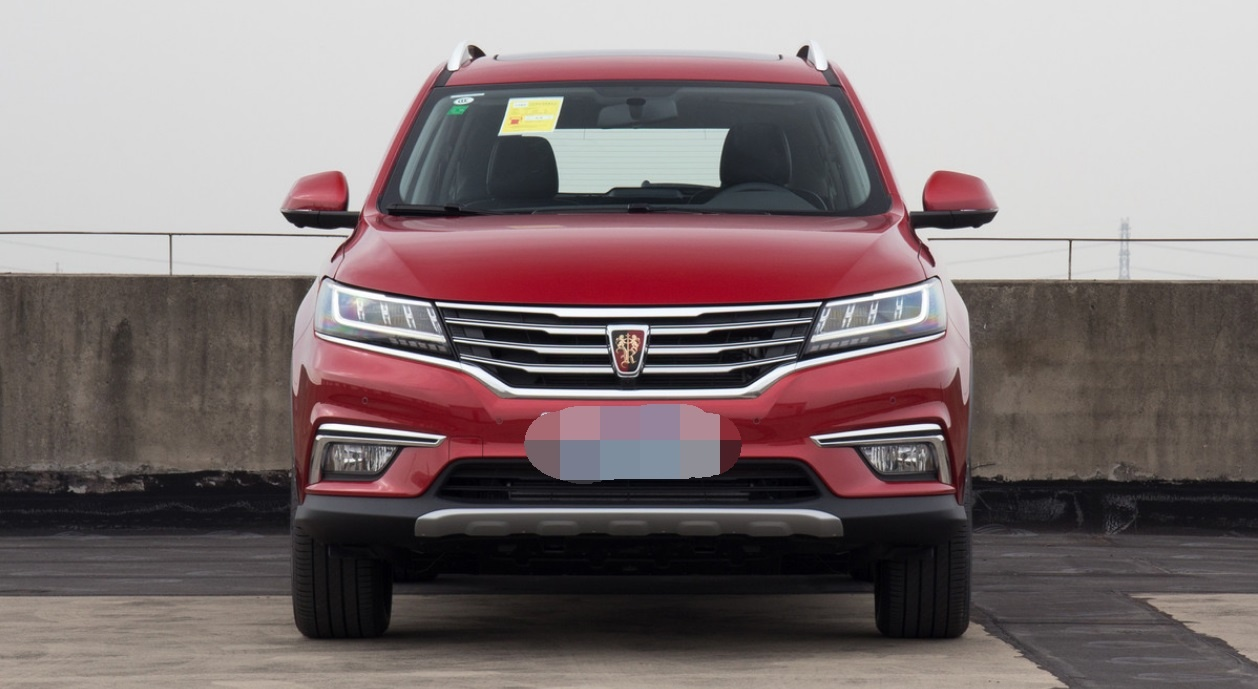SUV: (281, 40, 990, 646)
